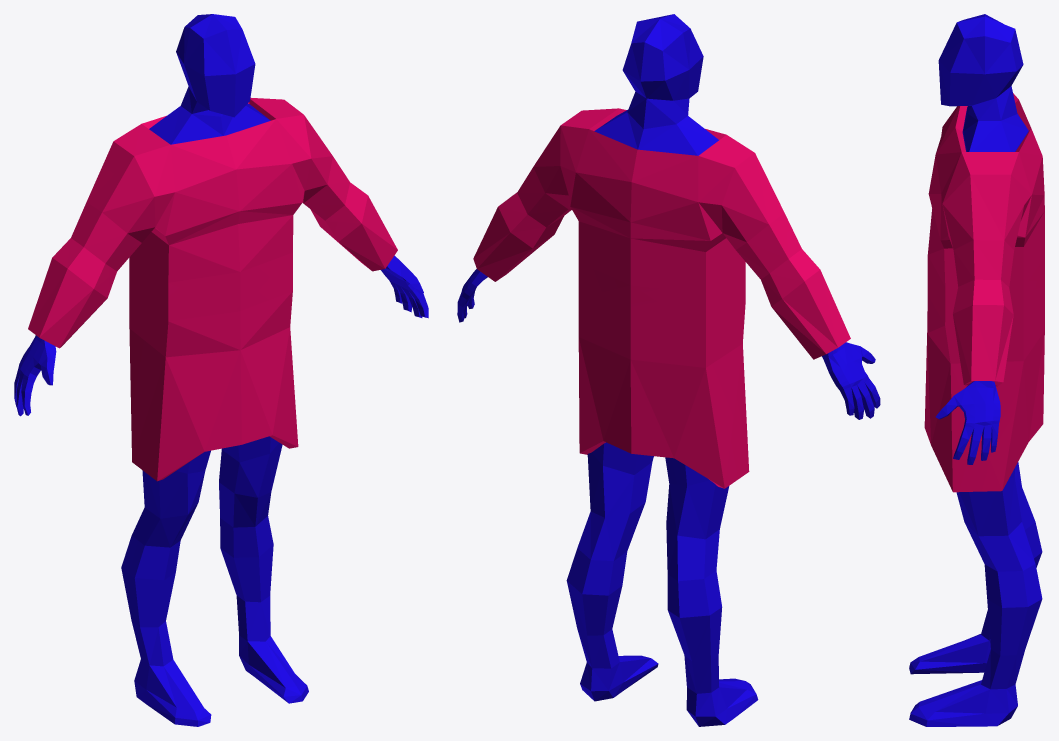
File: zzzz.fbx
3 renders of one model, left to right at view 1: azimuth 30°, elevation 25°; view 2: azimuth 150°, elevation 25°; view 3: azimuth 270°, elevation 25°, orthographic. The views are drawn at different scales.
Parts seen in each view (by area): view 1: Cube.003, Cube.001; view 2: Cube.003, Cube.001; view 3: Cube.003, Cube.001.
Part boxes in pixels (<box>): Cube.003: <box>28,98,397,481</box>; Cube.001: <box>14,14,428,726</box>; Cube.003: <box>473,108,850,488</box>; Cube.001: <box>457,14,880,726</box>; Cube.003: <box>924,93,1044,492</box>; Cube.001: <box>909,14,1042,726</box>.
Size of the model in its own units: 352 by 557 by 101.
